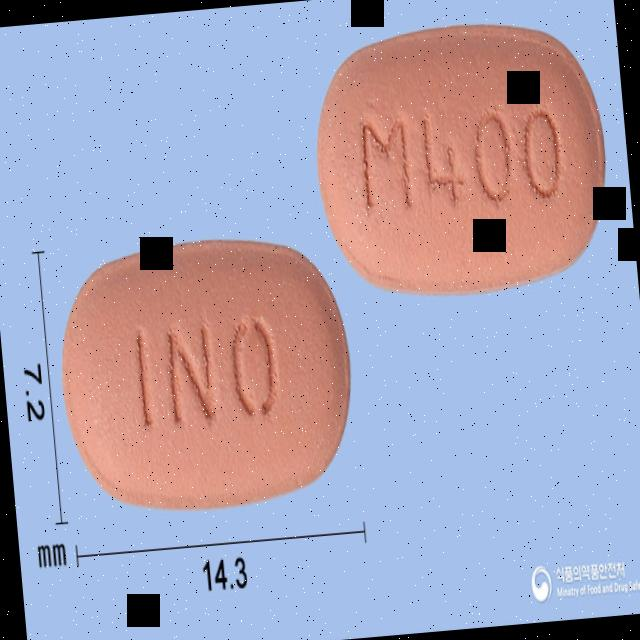Moveloxin: (306, 13, 618, 301), (52, 227, 360, 518)
